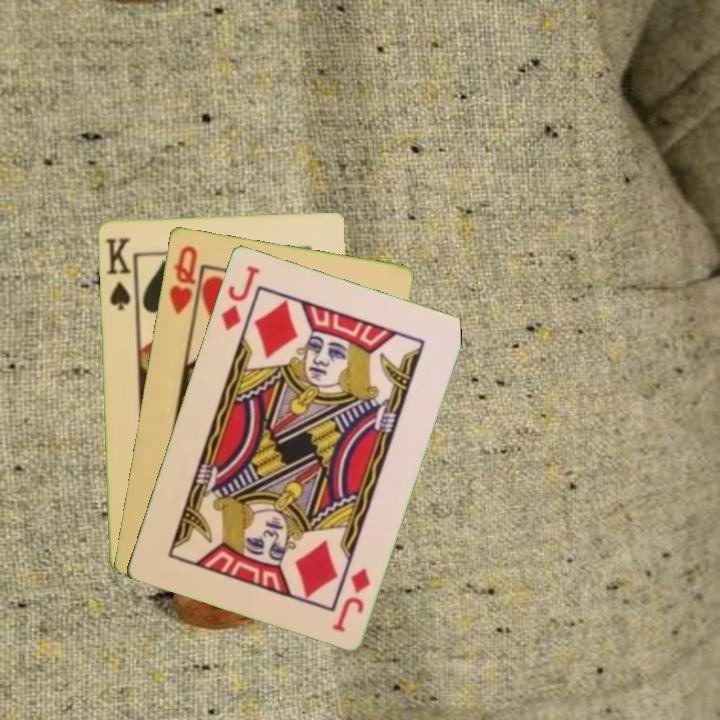Jd: (217, 261, 262, 333), (328, 564, 373, 635)
Ks: (102, 234, 137, 313)
Qh: (165, 242, 200, 317)
